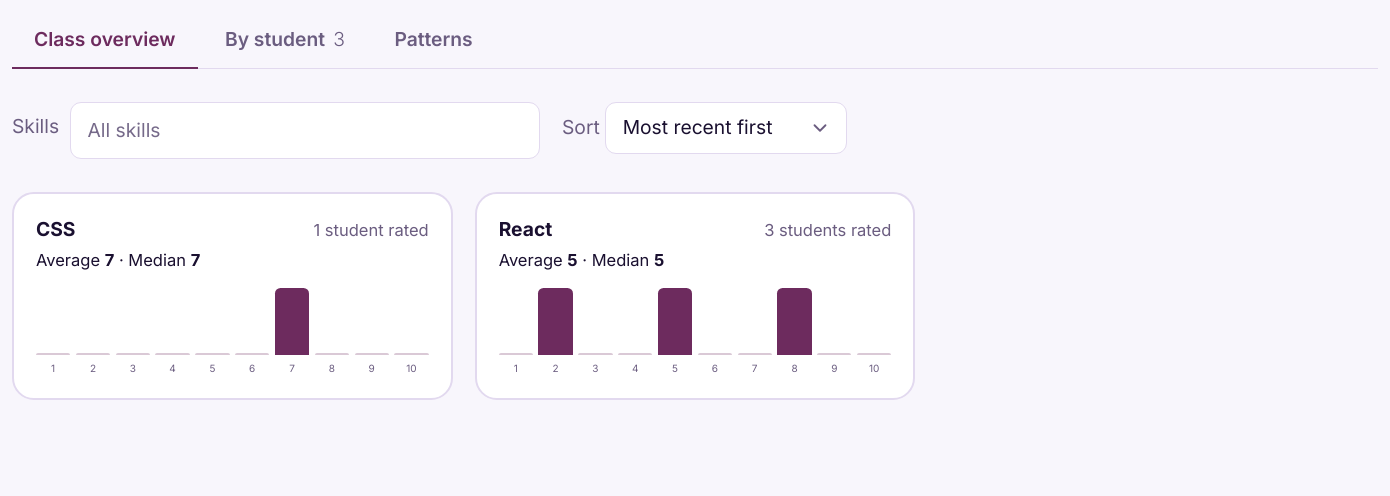
Test case: SkillConfidenceInstructorView › narrows the overview by skill, and the choice carries over to the By student tab
The width and height of the screenshot is (1390, 496).
Click the dropdown labelled "Skills".
click(305, 131)  # box x1=82 y1=111 x2=528 y2=150
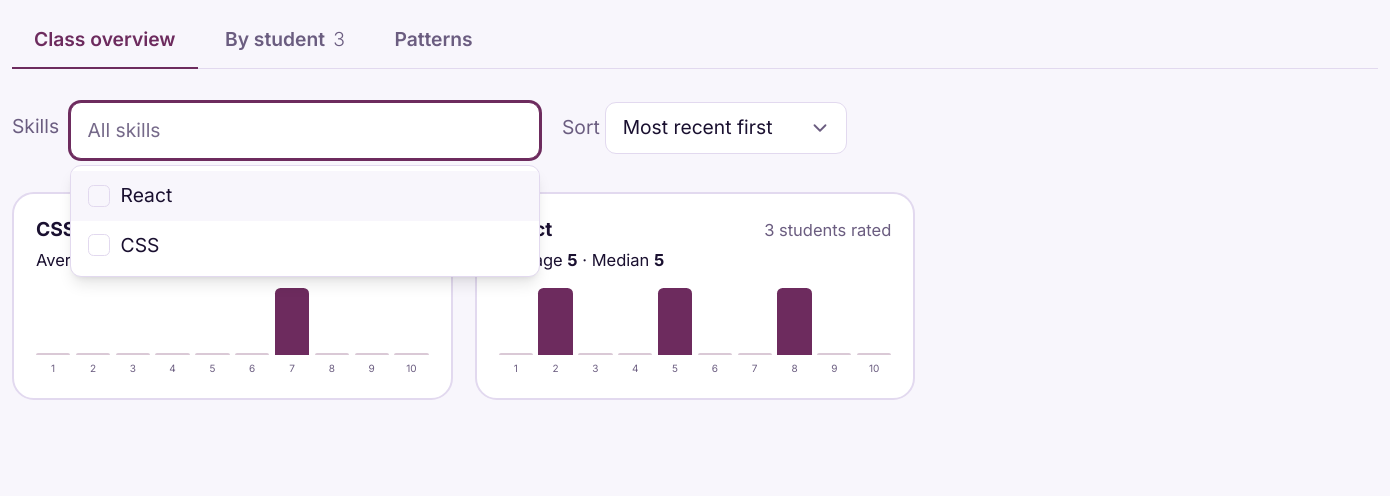
Click the option "CSS".
click(124, 244)  # box x1=88 y1=232 x2=159 y2=256
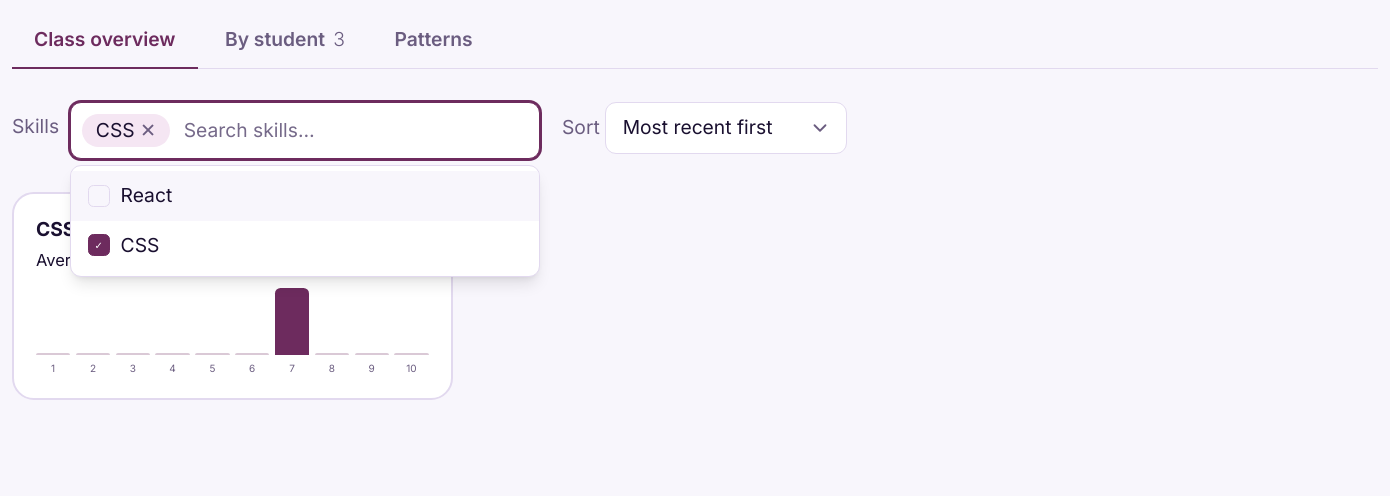
Expected: the heading "CSS" is shown, x1=36 y1=216 x2=76 y2=244
Click the tab "By student3".
click(285, 40)  # box x1=203 y1=12 x2=367 y2=69
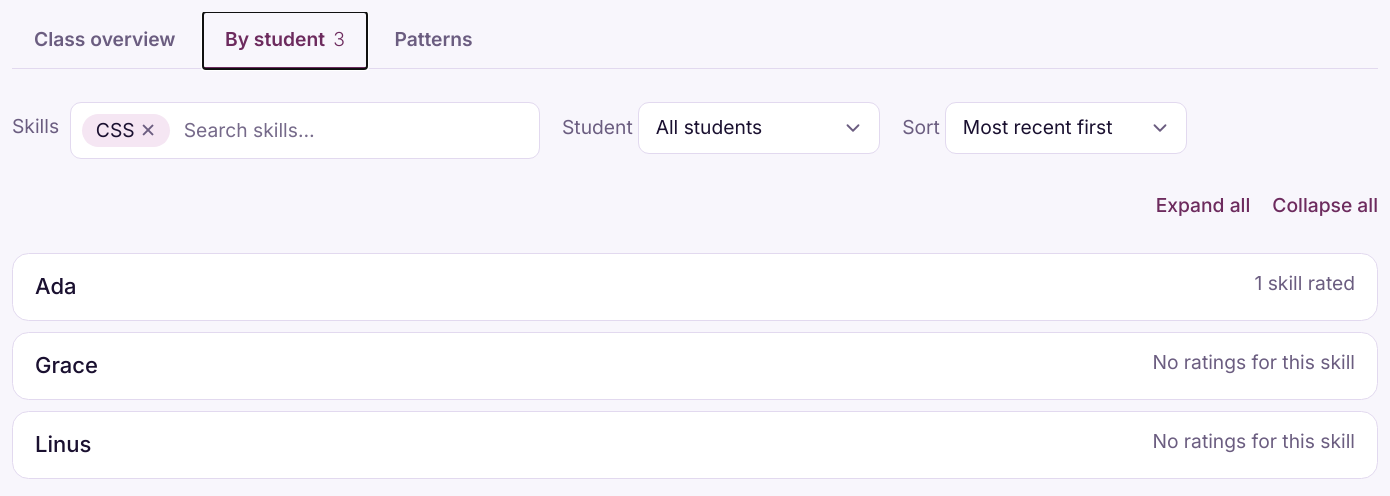
Expected: the text "No ratings for this skill" in the row of "Grace" is shown, x1=1152 y1=350 x2=1355 y2=374
